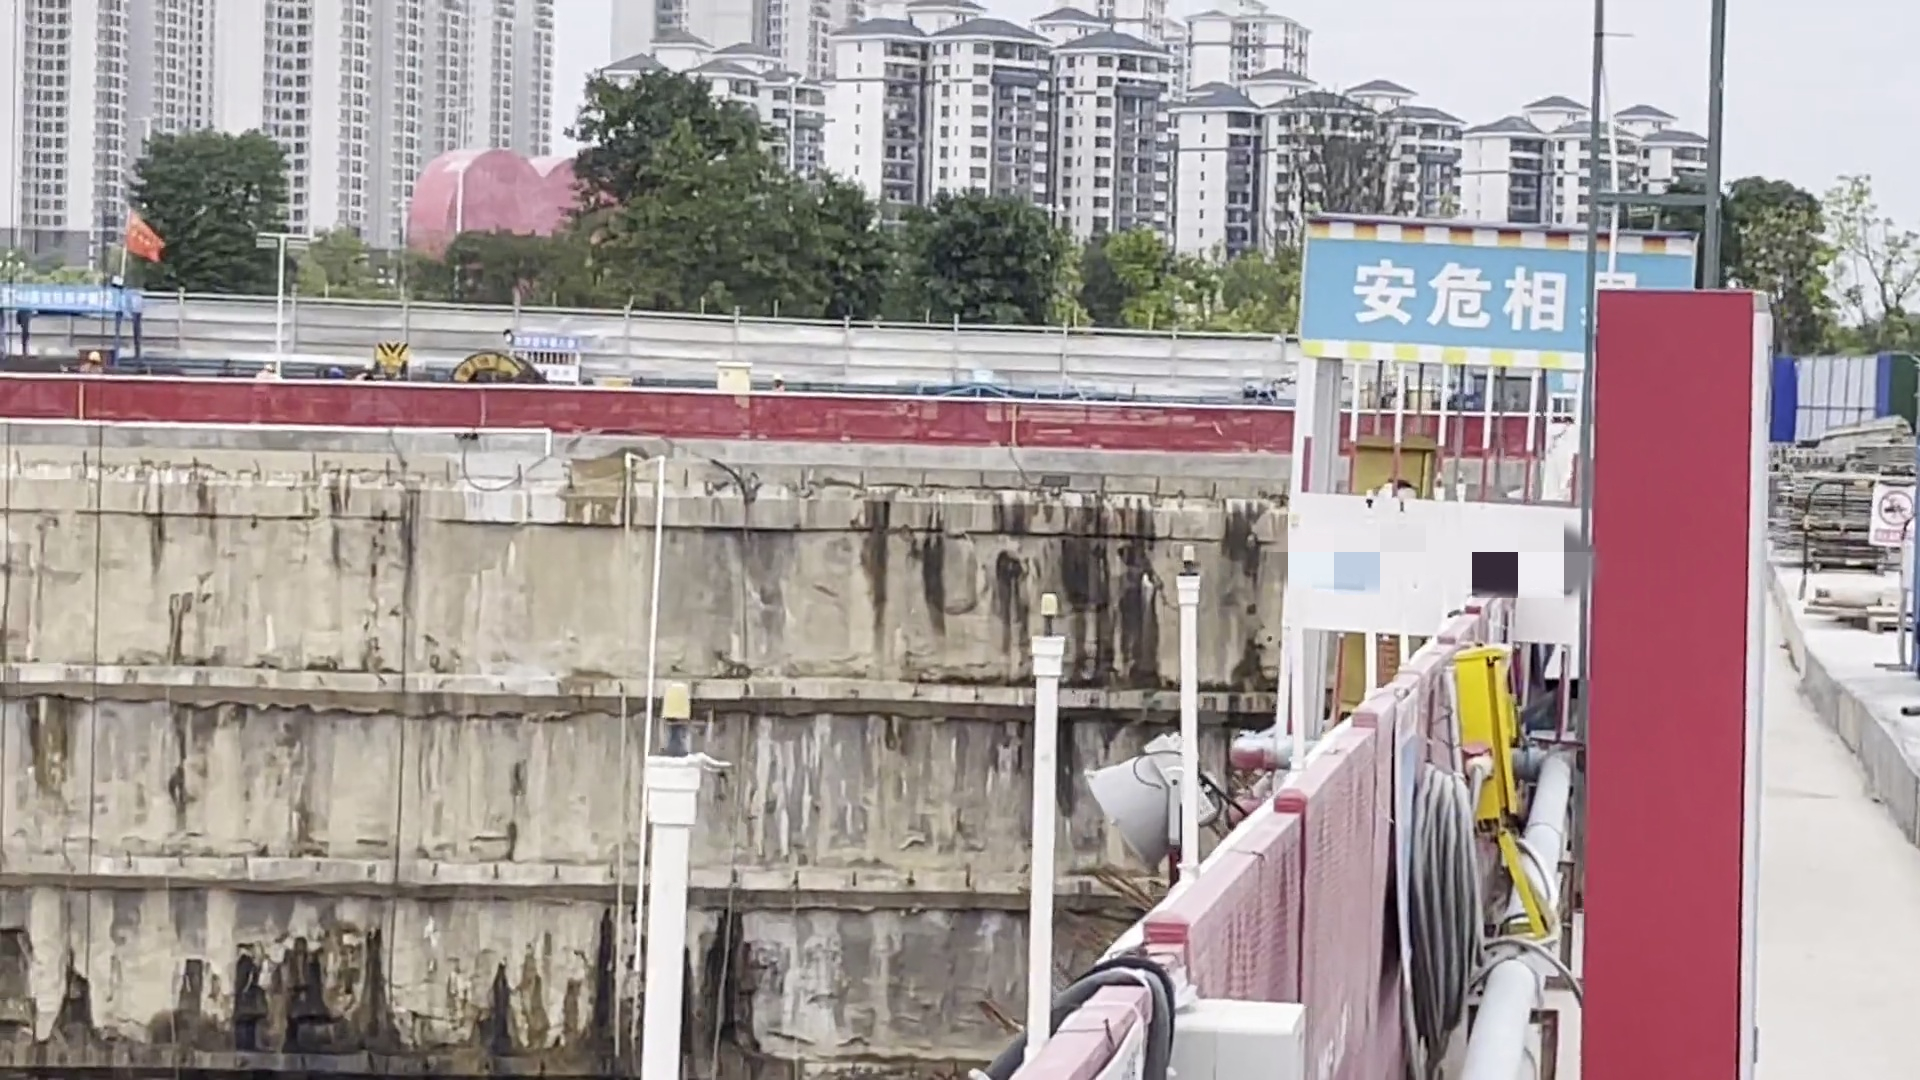ebox: (1449, 637, 1577, 942)
fence: (980, 579, 1491, 1080), (6, 377, 1295, 451)
helmet: (87, 350, 113, 364)
person: (75, 344, 121, 379)
slogan: (1324, 241, 1656, 339), (9, 284, 146, 320), (1859, 481, 1920, 558), (119, 220, 168, 267)
vest: (72, 359, 123, 388)
